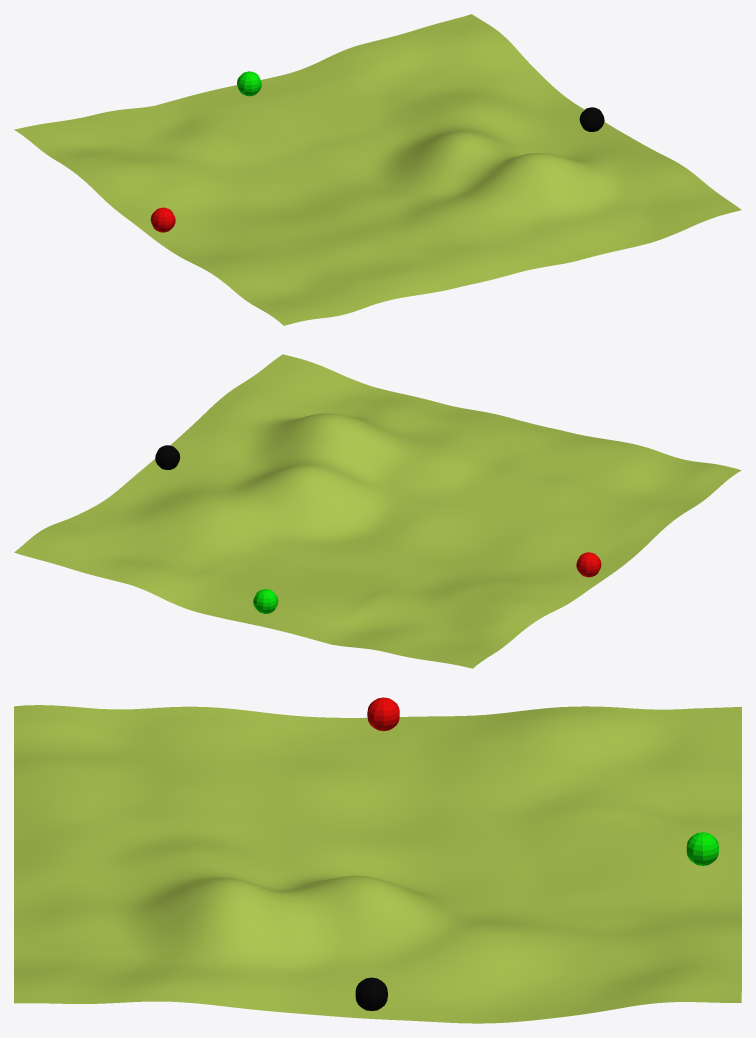
File: marqueurs_chemin_courve4.fbx
3 renders of one model, top to bottom at view 1: azimuth 30°, elevation 25°; view 2: azimuth 150°, elevation 25°; view 3: azimuth 270°, elevation 25°, orthographic. The views are drawn at different scales.
Visible parts, largest first — view 1: chemin_courve4; view 2: chemin_courve4; view 3: chemin_courve4, pSphere55, pSphere56, pSphere57.
Part boxes in pixels (<box>): chemin_courve4: <box>14,14,741,325</box>; chemin_courve4: <box>14,354,741,668</box>; chemin_courve4: <box>14,705,741,1023</box>; pSphere55: <box>367,697,399,731</box>; pSphere56: <box>686,832,718,865</box>; pSphere57: <box>355,977,387,1010</box>.
Bounding box in the file's own units: 709 × 67.41 × 720.
